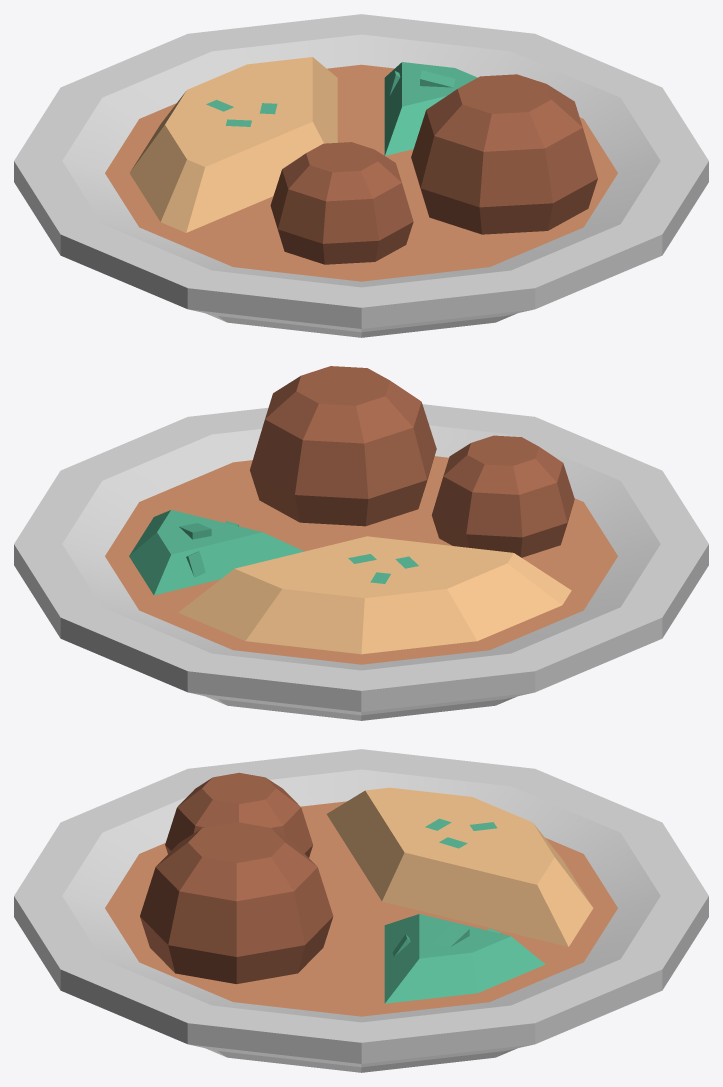
The model's file is plateDinner.obj.
3 renders of one model, top to bottom at view 1: azimuth 30°, elevation 25°; view 2: azimuth 150°, elevation 25°; view 3: azimuth 270°, elevation 25°, orthographic.
Visible parts, largest first — view 1: plateDinner; view 2: plateDinner; view 3: plateDinner.
Boxes of the visible parts, box(x1,y1,x2,y2) form: plateDinner: box(14, 14, 708, 337); plateDinner: box(14, 366, 708, 720); plateDinner: box(14, 749, 708, 1072).
Size of the model in its own units: 0.8918 by 0.2214 by 0.8918.
